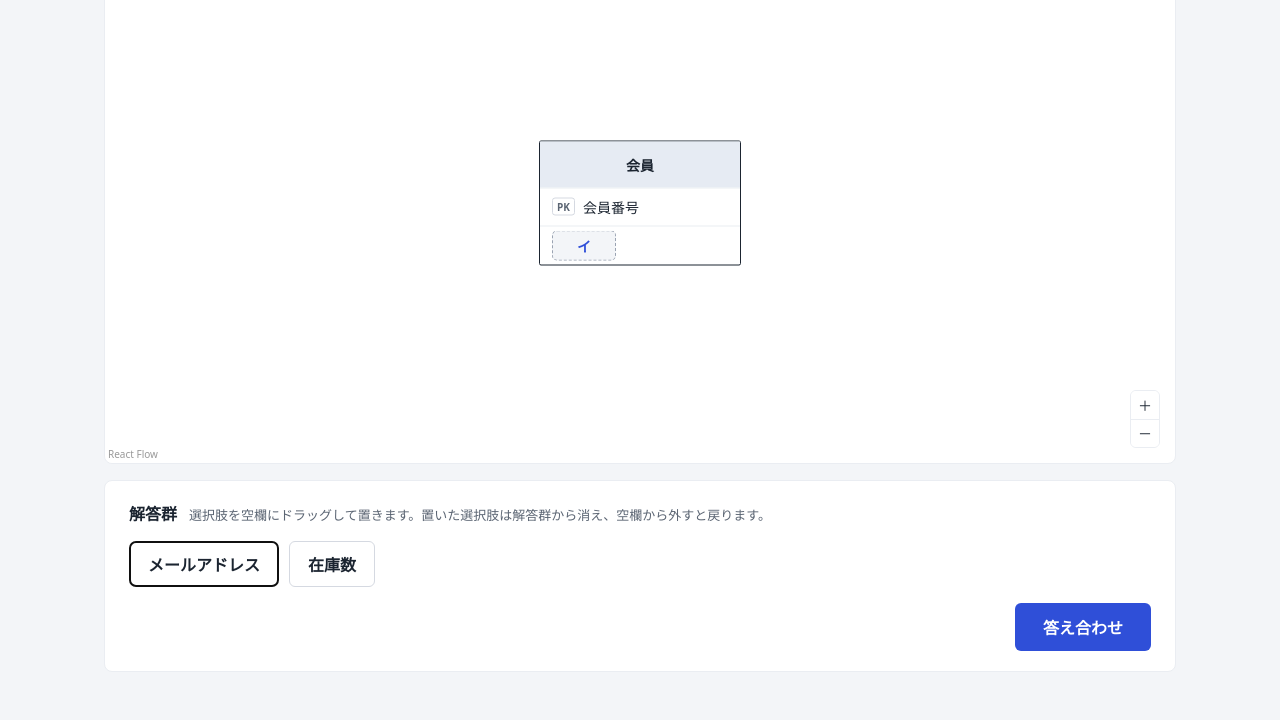
Scenario: App › 選択肢を空欄に置いて答え合わせすると、点数・正誤・解説が出る
The image size is (1280, 720).
(page scrolled)
Expected: the button named "空欄 イ" reads "イ", [552, 230, 616, 260]
Type keys "[Space]"
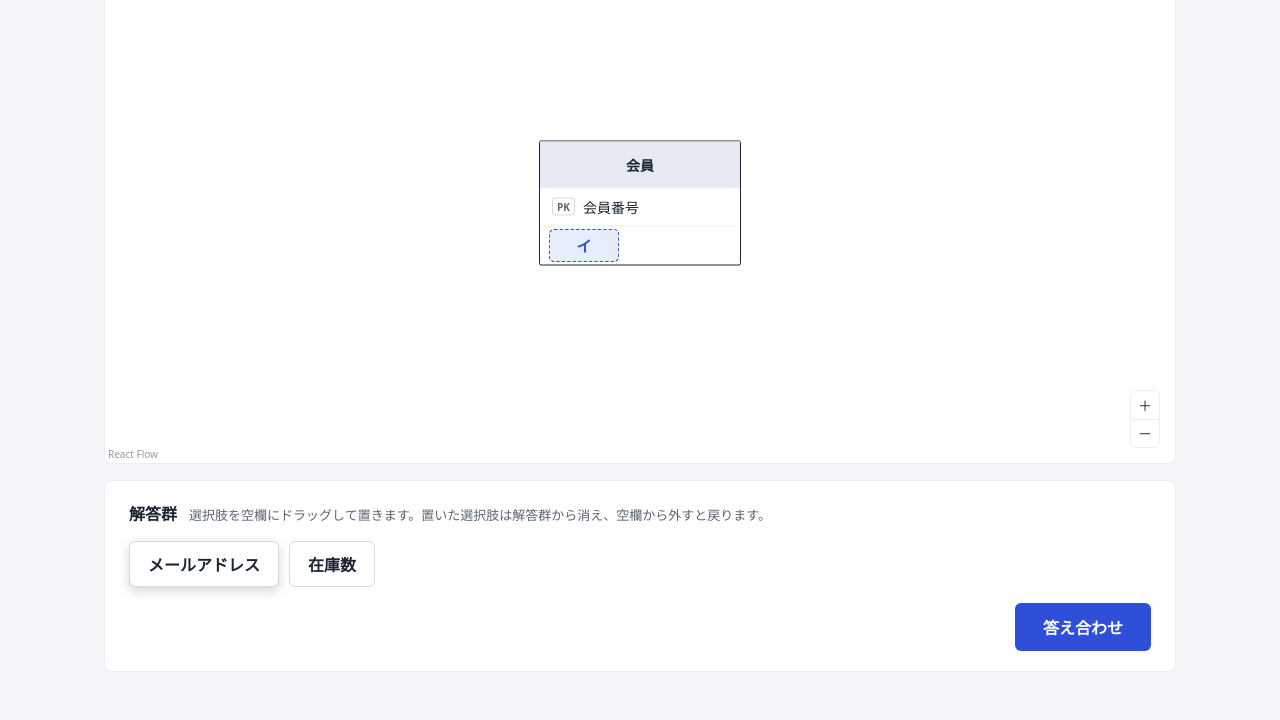
Type keys "[Space]"
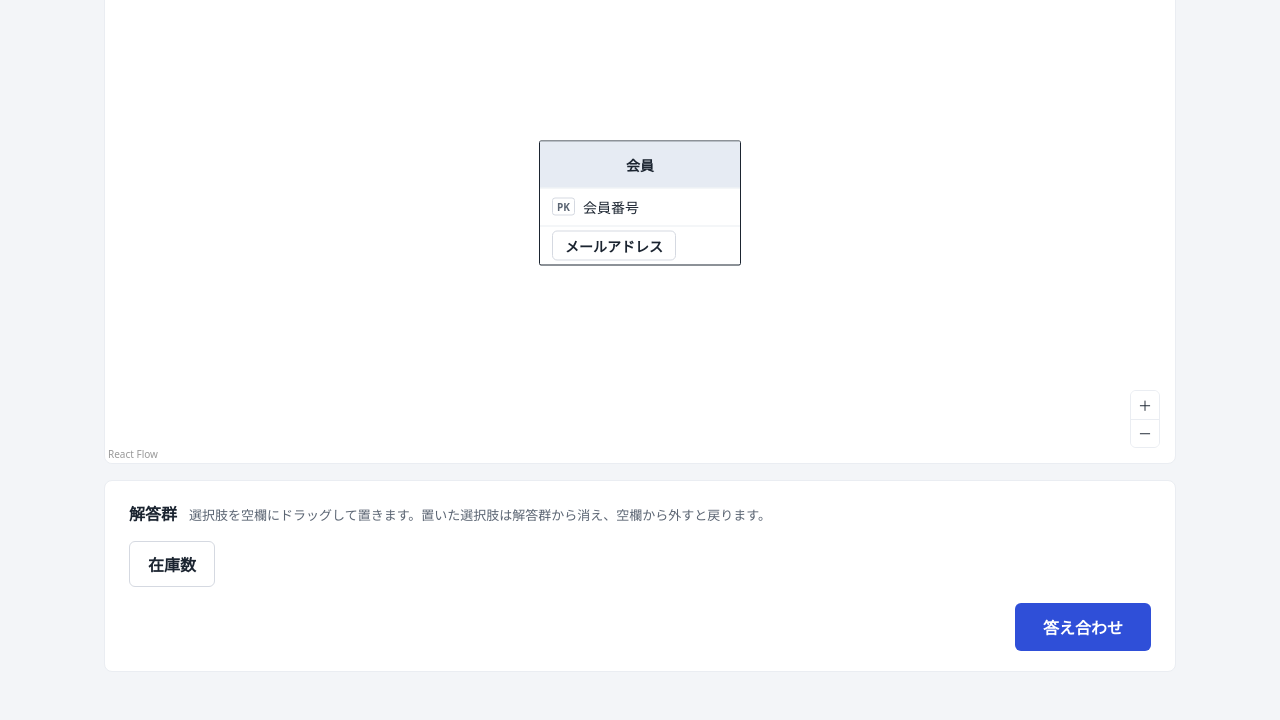
Expected: the button with aria-label "空欄 イ" reads "メールアドレス", [552, 230, 676, 260]
Click the button "答え合わせ" at (1083, 626), box [1015, 602, 1151, 650]
(page scrolled)
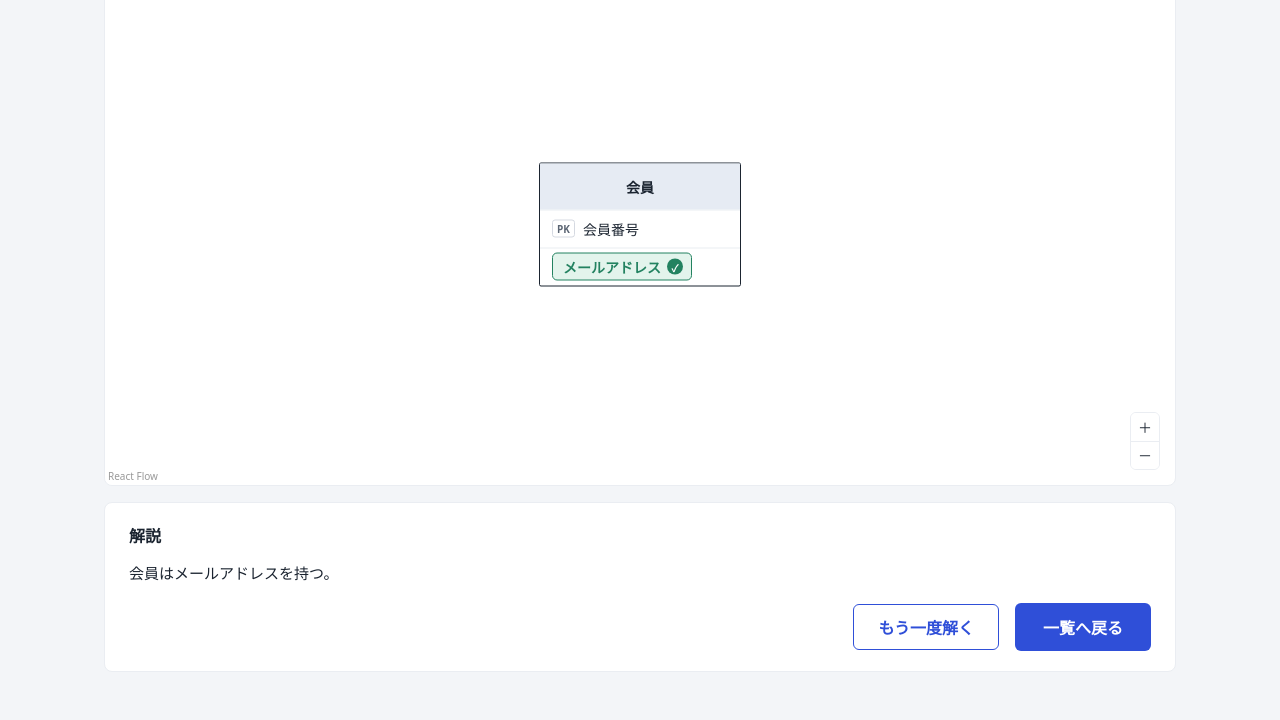
Expected: the element named "空欄 イ: メールアドレス、正解" is shown, [552, 252, 692, 280]
Expected: the element "解説" shows "会員はメールアドレスを持つ。", [129, 562, 338, 582]
Expected: the heading "解答群" is gone
